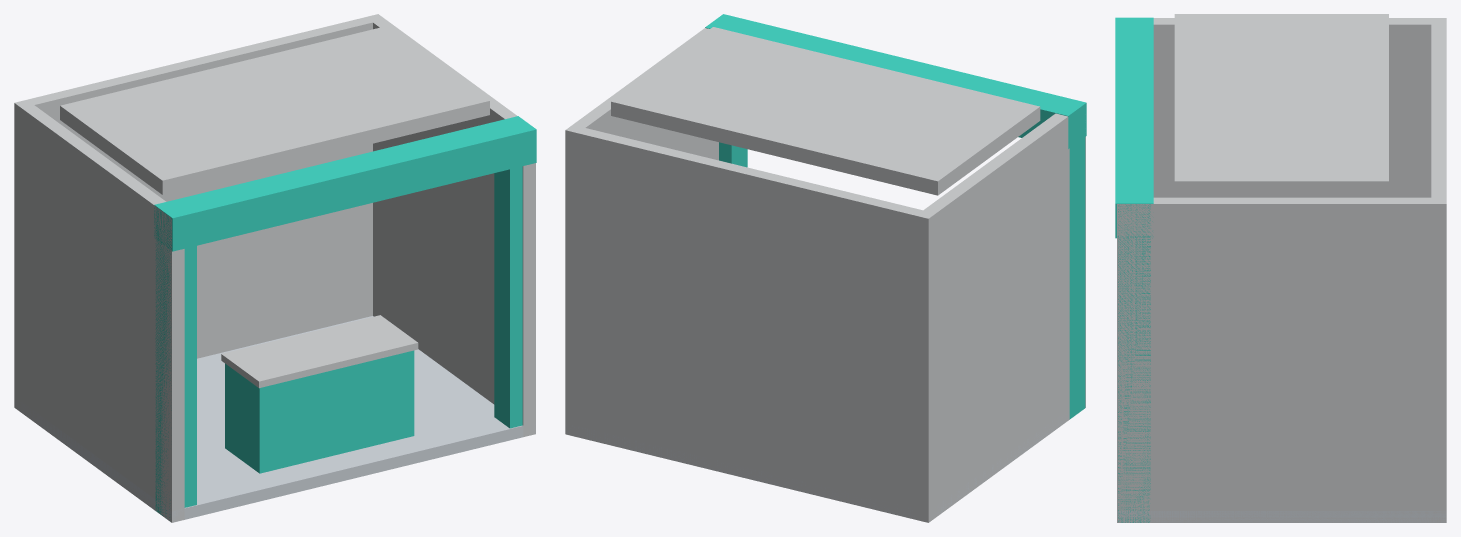
The picture shows the model from 3 angles, left to right: view 1: azimuth 30°, elevation 25°; view 2: azimuth 150°, elevation 25°; view 3: azimuth 270°, elevation 25°; orthographic projection. The views are drawn at different scales.
Visible parts, largest first — view 1: Exhibition Booth Concept; view 2: Exhibition Booth Concept; view 3: Exhibition Booth Concept.
Part boxes in pixels (x1=…): Exhibition Booth Concept: x1=14, y1=14, x2=536, y2=522; Exhibition Booth Concept: x1=565, y1=14, x2=1086, y2=522; Exhibition Booth Concept: x1=1115, y1=14, x2=1446, y2=522.
Bounding box in the file's own units: 4 × 3.34 × 3.01.
